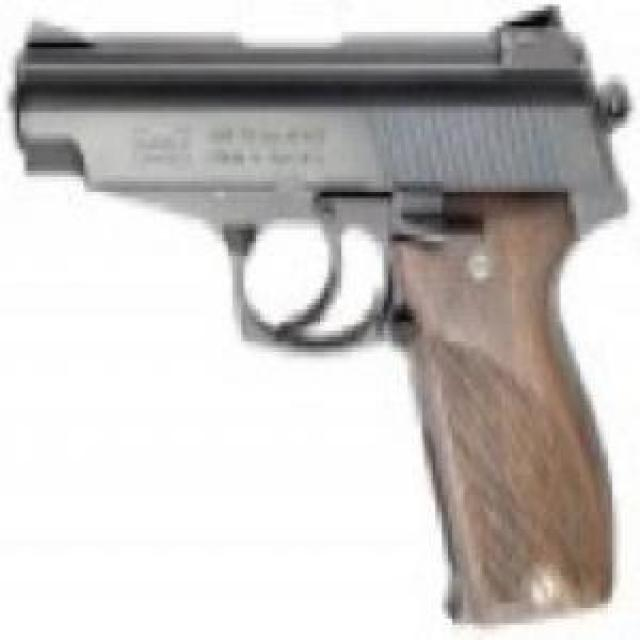pistol: (9, 11, 616, 618)
